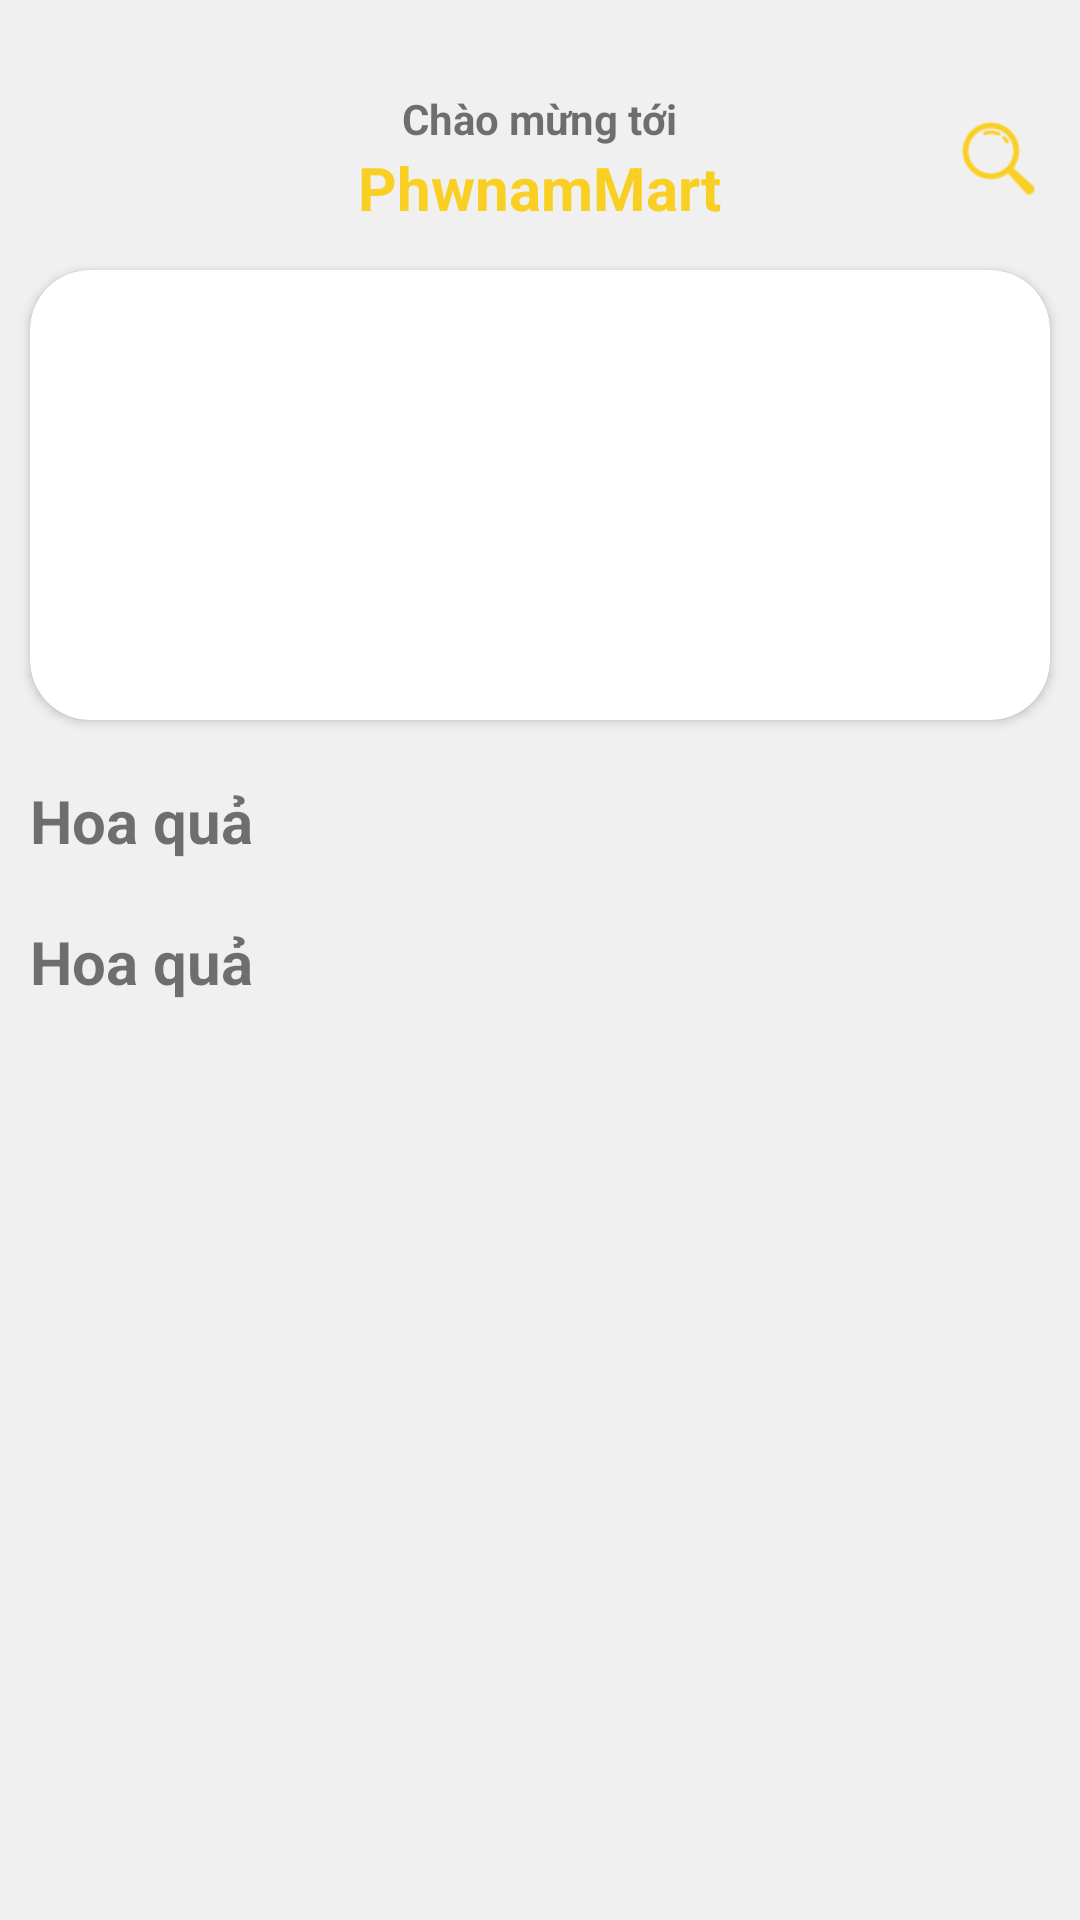

Locate icon controls on the screen. Image size 1080px×1920px, boxes as (x1, y1, x2, y2).
find: (962, 122, 1035, 195)
